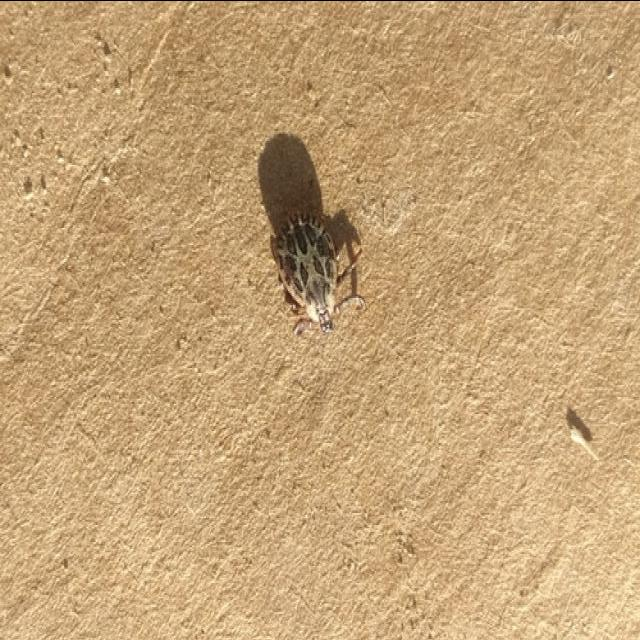Dermacentor Reticulatus-M: (270, 210, 364, 335)
